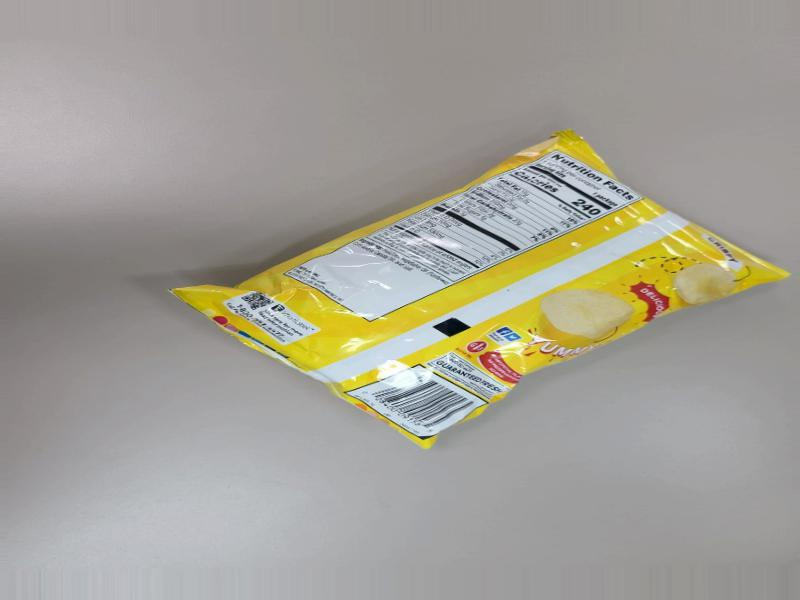lays: (180, 147, 800, 406)
